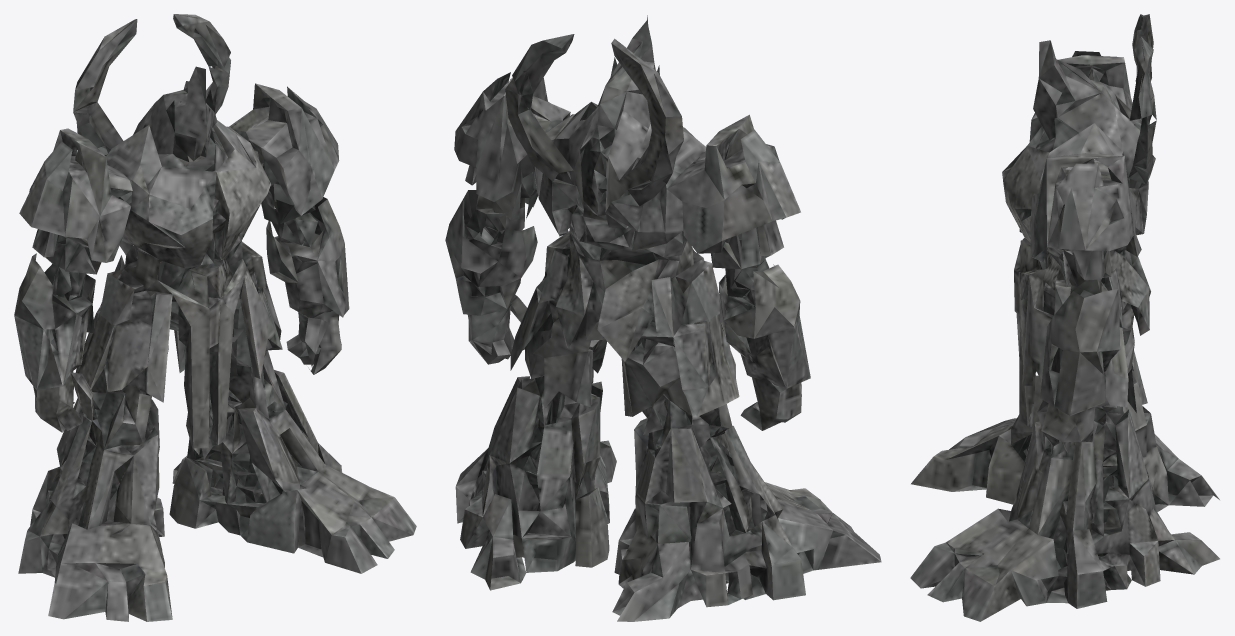
The model's file is monument_sleeping_guard.glb.
3 views of the same model, side by side, from view 1: azimuth 30°, elevation 25°; view 2: azimuth 150°, elevation 25°; view 3: azimuth 270°, elevation 25° (orthographic). The views are drawn at different scales.
Visible parts, largest first — view 1: output_unwrapped; view 2: output_unwrapped; view 3: output_unwrapped.
Part boxes in pixels (box(x1,y1,x2,y2)): output_unwrapped: box(14, 14, 416, 621); output_unwrapped: box(445, 15, 881, 621); output_unwrapped: box(910, 14, 1219, 621).
Bounding box in the file's own units: 1.47 × 1.9 × 1.05.
1 material, 1 textured.
